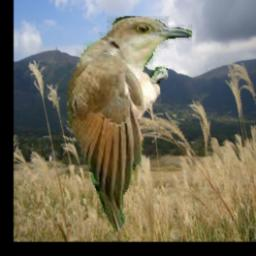Cuckoo: (66, 16, 193, 234)
